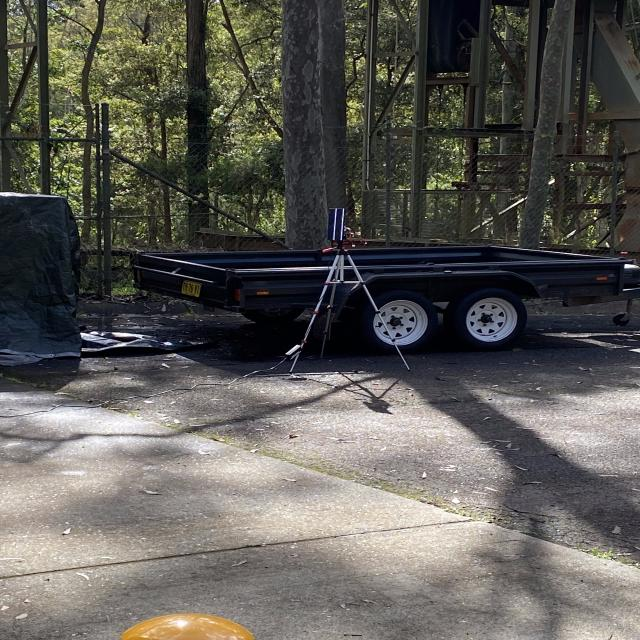matrix: (321, 203, 350, 241)
